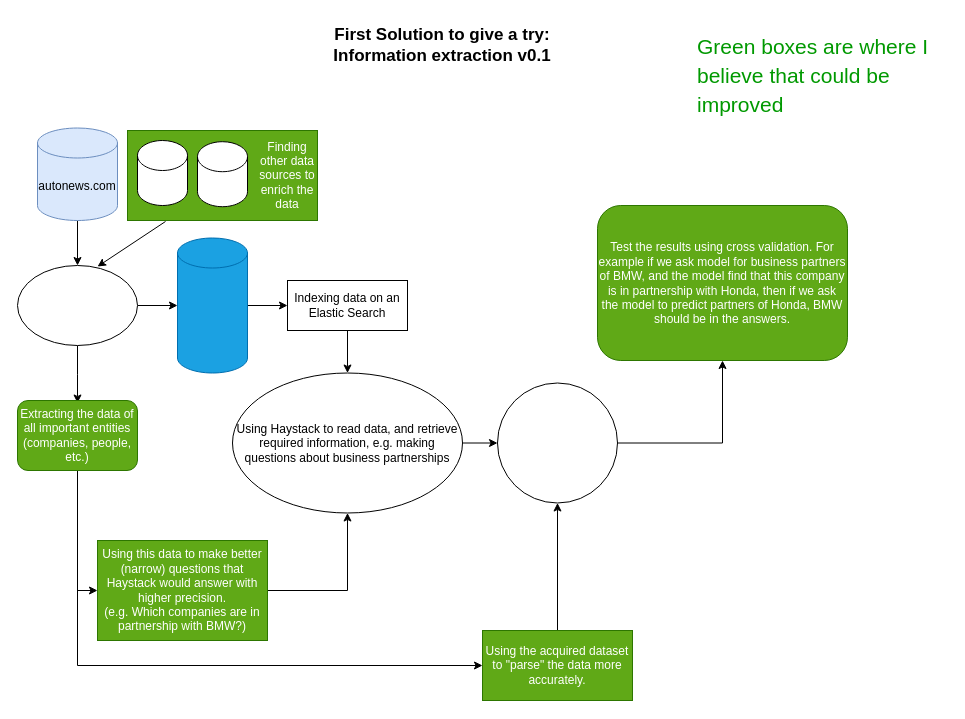
Some shapes in this 965 by 719 pixel diagram are drawn without their labels. The shapes that lost their labels are listed below. From the top down, each one's centre as x and y in pixels, then its label:
the point at 77,305: Crawler
the point at 212,305: stored data on a Postgres DB
the point at 557,442: Parse the acquired answers to find out knowledge and store them
